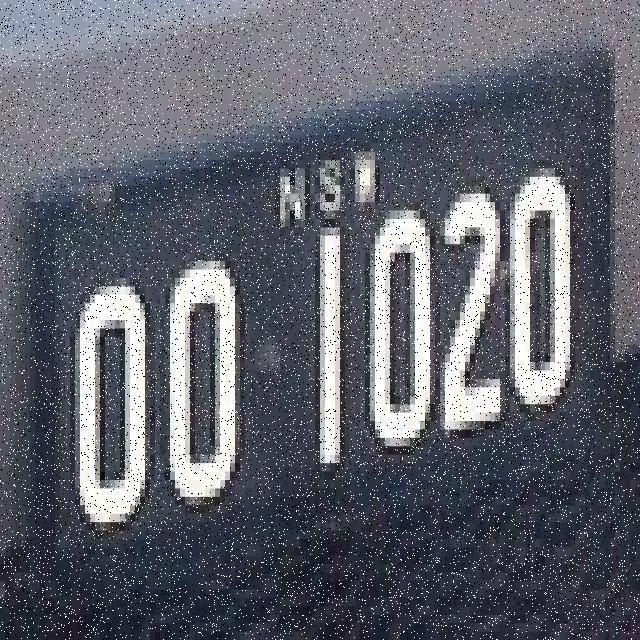LicensePlate: (13, 12, 630, 634)
